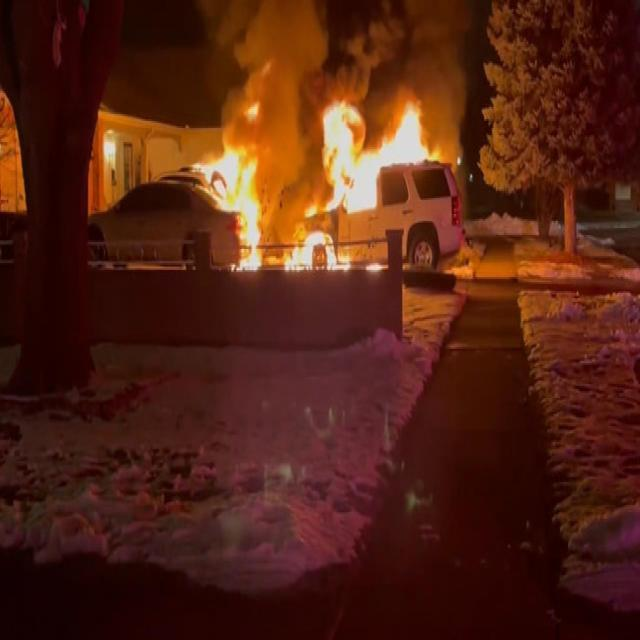Fire: (295, 86, 448, 195), (193, 118, 270, 287), (281, 215, 382, 278), (94, 106, 125, 196)
Smoke: (207, 0, 459, 83)
